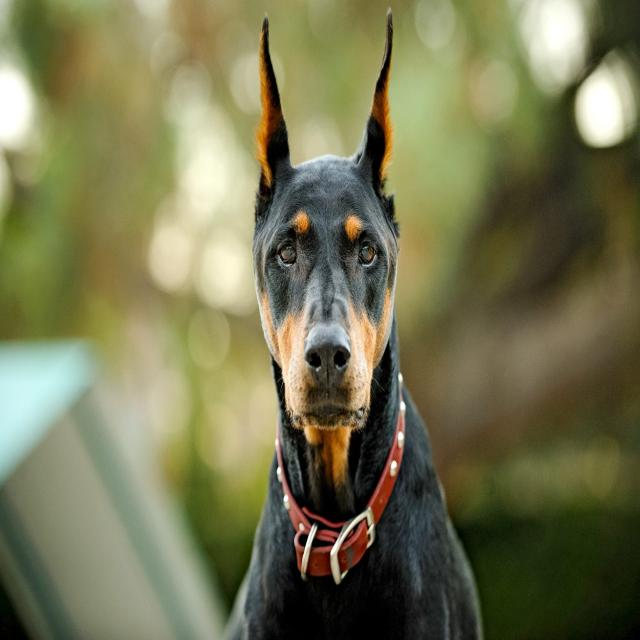Dog: (220, 3, 486, 640)
